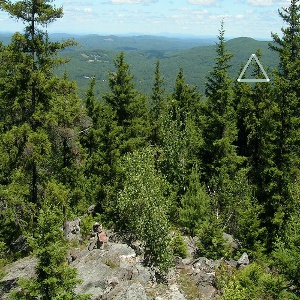triangle: (236, 51, 271, 84)
